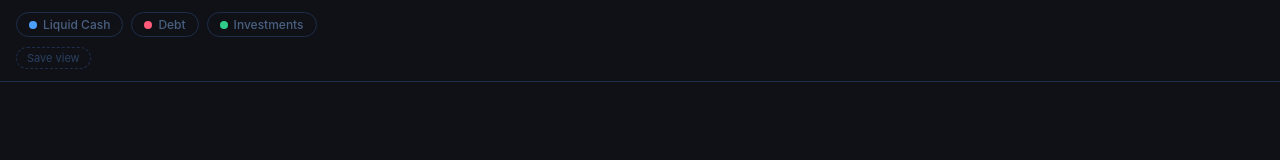
Test: GroupSnapshotControls › save config › shows a name input after clicking save button
Click the button "Save view".
click(53, 58)  # box [16,47,91,69]
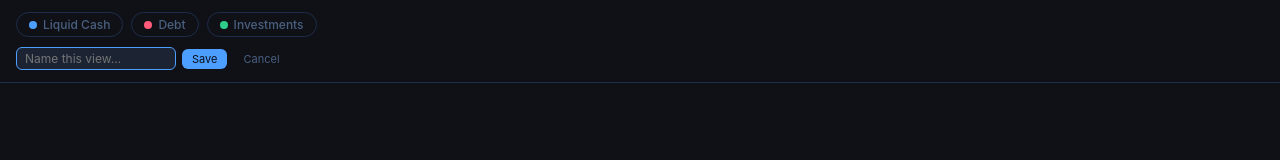
Expected: the field with placeholder "Name this view…" is shown, [16,47,176,70]
